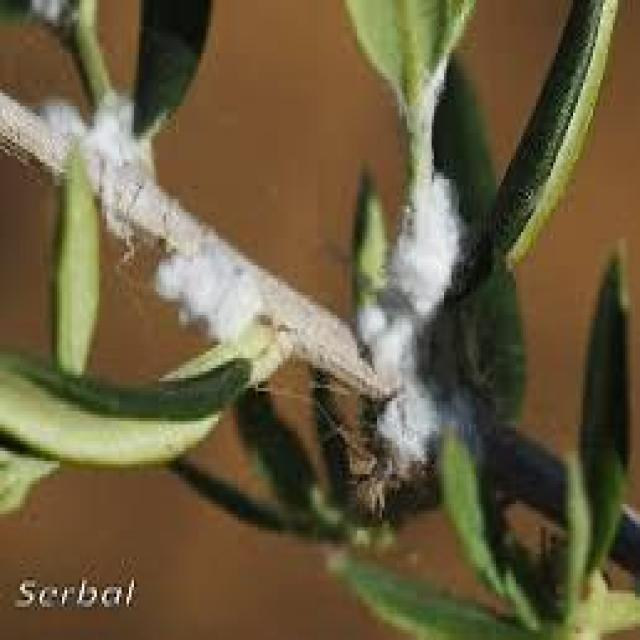Psyllid: (335, 123, 494, 487), (30, 60, 174, 249), (154, 242, 273, 342)
